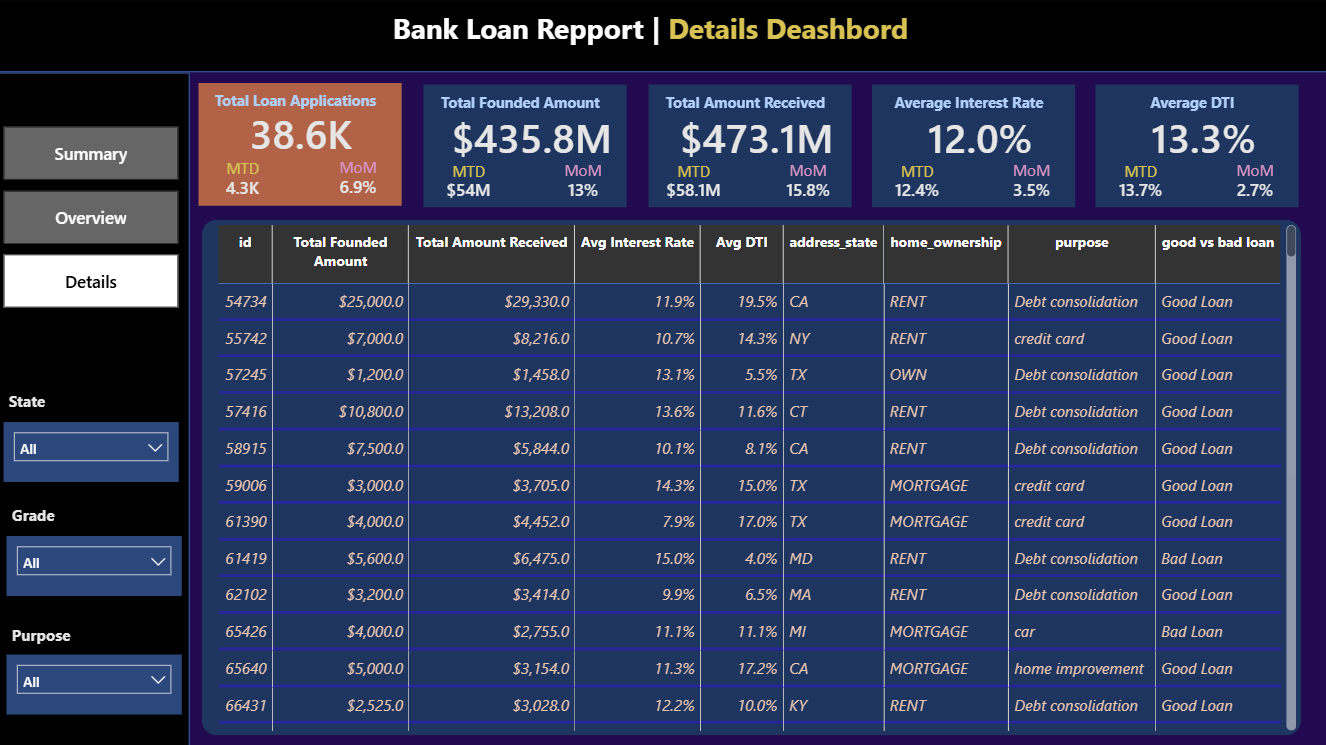

This screenshot's page, from the dashboard's own definition file:
{"tool":"powerbi","page":{"name":"Details","canvas":[1280,720],"ordinal":2},"visuals":[{"type":"shape","box":[0,0,1280,70],"z":0},{"type":"shape","box":[194.3,80.5,194.3,117.2],"z":0,"group":"g4"},{"type":"shape","box":[408.3,81.1,194.3,117.2],"z":0,"group":"g1"},{"type":"shape","box":[623.8,81.1,194.3,117.2],"z":0,"group":"g2"},{"type":"shape","box":[837.2,81.1,194.3,117.2],"z":0,"group":"g5"},{"type":"shape","box":[1050.8,82.2,194.3,117.2],"z":0,"group":"g3"},{"type":"shape","box":[0,70,185,650],"z":1000},{"type":"cardVisual","fields":{"Data":["Loan Mesures.Total Loan Amount"]},"box":[397.8,89.1,227,79],"z":1000,"group":"g1"},{"type":"cardVisual","fields":{"Data":["Loan Mesures.Total Amount Received"]},"box":[613.3,89.1,227,79],"z":1000,"group":"g2"},{"type":"cardVisual","fields":{"Data":["Loan Mesures.Avg Interest Rate"]},"box":[826.7,89.1,227,79],"z":1000,"group":"g5"},{"type":"cardVisual","fields":{"Data":["Loan Mesures.Avg DTI"]},"box":[1040.3,90.2,227,79],"z":1000,"group":"g3"},{"type":"cardVisual","title":"MoM","fields":{"Data":["Loan Mesures.MoM Loan Applications"]},"box":[304,151,84,46],"z":1000,"group":"g4"},{"type":"textbox","box":[374,4,598,66],"z":2000},{"type":"textbox","box":[397.8,82.4,205,28.8],"z":2000,"group":"g1"},{"type":"textbox","box":[613.3,82.4,205,28.8],"z":2000,"group":"g2"},{"type":"textbox","box":[826.7,82.4,205,28.8],"z":2000,"group":"g5"},{"type":"textbox","box":[1040.3,83.5,205,28.8],"z":2000,"group":"g3"},{"type":"cardVisual","fields":{"Data":["bank_loan_data.Total Loan Applications"]},"box":[195,86.8,193.5,80],"z":2000,"group":"g4"},{"type":"group","id":"g1","title":"Group 2","box":[397.8,81.1,227,117.5],"z":3000},{"type":"textbox","box":[183.8,81.8,205,28.8],"z":3000,"group":"g4"},{"type":"cardVisual","title":"MTD","fields":{"Data":["Loan Mesures.MTD Founded Amount"]},"box":[408.6,153.6,83.3,45],"z":3000,"group":"g1"},{"type":"cardVisual","title":"MTD","fields":{"Data":["Loan Mesures.MTD Amount Received"]},"box":[624.1,153.6,83.3,45],"z":3000,"group":"g2"},{"type":"cardVisual","title":"MTD","fields":{"Data":["Loan Mesures.MTD Avg Interest Rate"]},"box":[837.5,153.6,83.3,45],"z":3000,"group":"g5"},{"type":"cardVisual","title":"MTD","fields":{"Data":["Loan Mesures.MTD Avg DTI"]},"box":[1051.1,154.7,83.3,45],"z":3000,"group":"g3"},{"type":"group","id":"g2","title":"Group 2","box":[613.3,81.1,227.8,117.8],"z":4000},{"type":"cardVisual","title":"MoM","fields":{"Data":["Loan Mesures.MoM Founded Amount"]},"box":[518.8,152.1,84,46],"z":4000,"group":"g1"},{"type":"cardVisual","title":"MoM","fields":{"Data":["Loan Mesures.MoM Amount Received"]},"box":[734.3,152.1,84,46],"z":4000,"group":"g2"},{"type":"cardVisual","title":"MoM","fields":{"Data":["Loan Mesures.MoM Avg Interest Rate"]},"box":[947.7,152.1,84,46],"z":4000,"group":"g5"},{"type":"cardVisual","title":"MTD","fields":{"Data":["Loan Mesures.MTD Loan Applications"]},"box":[194,152.4,84.2,45.8],"z":4000,"group":"g4"},{"type":"cardVisual","title":"MoM","fields":{"Data":["Loan Mesures.MoM Avg DTI"]},"box":[1161.3,153.2,84,46],"z":4000,"group":"g3"},{"type":"group","id":"g3","title":"Group 2","box":[1040.3,82.2,227,117.5],"z":5000},{"type":"group","id":"g4","title":"Group 1","box":[183.8,80.5,205,117.7],"z":6000},{"type":"group","id":"g5","title":"Group 2","box":[826.7,81.1,226.7,118.9],"z":7000},{"type":"shape","box":[195.7,210,1050,492.9],"z":16000},{"type":"tableEx","fields":{"Values":["bank_loan_data.id","Loan Mesures.Total Founded Amount","Loan Mesures.Total Amount Received","Loan Mesures.Avg Interest Rate","Loan Mesures.Avg DTI","bank_loan_data.address_state","bank_loan_data.home_ownership","bank_loan_data.purpose","bank_loan_data.good vs bad loan"]},"box":[205.7,210,1040,492.9],"z":17001},{"type":"slicer","fields":{"Values":["bank_loan_data.address_state"]},"box":[7.1,404.3,167.1,57.1],"z":17002},{"type":"textbox","box":[7.1,368.6,185.7,35.7],"z":17003},{"type":"slicer","fields":{"Values":["bank_loan_data.grade"]},"box":[10.5,513.3,167.1,57.1],"z":17004},{"type":"textbox","box":[10.5,477.6,185.7,35.7],"z":17005},{"type":"slicer","fields":{"Values":["bank_loan_data.purpose"]},"box":[9.5,626.7,167.1,57.1],"z":17006},{"type":"textbox","box":[9.5,591,185.7,35.7],"z":17007},{"type":"pageNavigator","box":[7.1,121.4,167.1,175.7],"z":17008}]}

Visuals, with their boxes in screenshot pixels (x1, y1, x2, y2), scaled from the page's 1280x720 canvas onto the 1326x745 screenshot:
shape: [x1=0, y1=0, x2=1325, y2=72]
shape: [x1=201, y1=83, x2=403, y2=205]
shape: [x1=423, y1=84, x2=624, y2=205]
shape: [x1=646, y1=84, x2=848, y2=205]
shape: [x1=867, y1=84, x2=1069, y2=205]
shape: [x1=1089, y1=85, x2=1290, y2=206]
shape: [x1=0, y1=72, x2=192, y2=744]
cardVisual - Loan Mesures.Total Loan Amount: [x1=412, y1=92, x2=647, y2=174]
cardVisual - Loan Mesures.Total Amount Received: [x1=635, y1=92, x2=870, y2=174]
cardVisual - Loan Mesures.Avg Interest Rate: [x1=856, y1=92, x2=1092, y2=174]
cardVisual - Loan Mesures.Avg DTI: [x1=1078, y1=93, x2=1313, y2=175]
"MoM" cardVisual: [x1=315, y1=156, x2=402, y2=204]
textbox: [x1=387, y1=4, x2=1007, y2=72]
textbox: [x1=412, y1=85, x2=624, y2=115]
textbox: [x1=635, y1=85, x2=848, y2=115]
textbox: [x1=856, y1=85, x2=1069, y2=115]
textbox: [x1=1078, y1=86, x2=1290, y2=116]
cardVisual - bank_loan_data.Total Loan Applications: [x1=202, y1=90, x2=402, y2=173]
"Group 2" group: [x1=412, y1=84, x2=647, y2=205]
textbox: [x1=190, y1=85, x2=403, y2=114]
"MTD" cardVisual: [x1=423, y1=159, x2=510, y2=205]
"MTD" cardVisual: [x1=647, y1=159, x2=733, y2=205]
"MTD" cardVisual: [x1=868, y1=159, x2=954, y2=205]
"MTD" cardVisual: [x1=1089, y1=160, x2=1175, y2=207]
"Group 2" group: [x1=635, y1=84, x2=871, y2=206]
"MoM" cardVisual: [x1=537, y1=157, x2=624, y2=205]
"MoM" cardVisual: [x1=761, y1=157, x2=848, y2=205]
"MoM" cardVisual: [x1=982, y1=157, x2=1069, y2=205]
"MTD" cardVisual: [x1=201, y1=158, x2=288, y2=205]
"MoM" cardVisual: [x1=1203, y1=159, x2=1290, y2=206]
"Group 2" group: [x1=1078, y1=85, x2=1313, y2=207]
"Group 1" group: [x1=190, y1=83, x2=403, y2=205]
"Group 2" group: [x1=856, y1=84, x2=1091, y2=207]
shape: [x1=203, y1=217, x2=1290, y2=727]
tableEx - bank_loan_data.id x Loan Mesures.Total Founded Amount: [x1=213, y1=217, x2=1290, y2=727]
slicer - bank_loan_data.address_state: [x1=7, y1=418, x2=180, y2=477]
textbox: [x1=7, y1=381, x2=200, y2=418]
slicer - bank_loan_data.grade: [x1=11, y1=531, x2=184, y2=590]
textbox: [x1=11, y1=494, x2=203, y2=531]
slicer - bank_loan_data.purpose: [x1=10, y1=648, x2=183, y2=708]
textbox: [x1=10, y1=612, x2=202, y2=648]
pageNavigator: [x1=7, y1=126, x2=180, y2=307]
